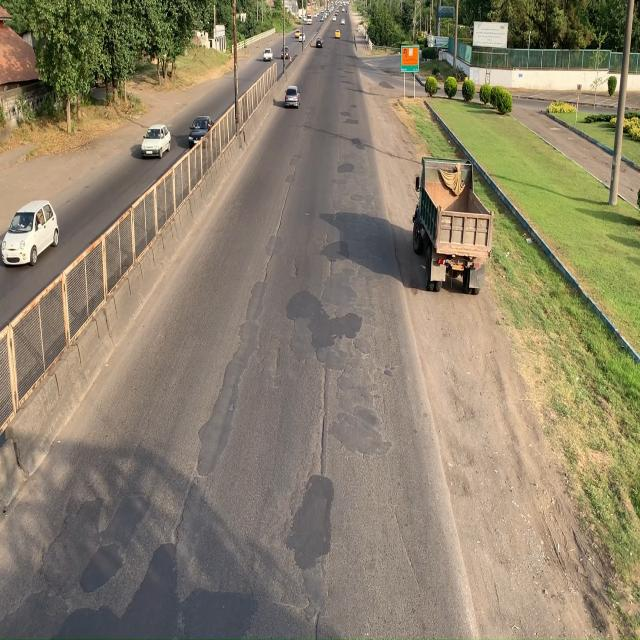Truck: (413, 154, 497, 294)
cars: (0, 198, 58, 269), (141, 123, 171, 161)
